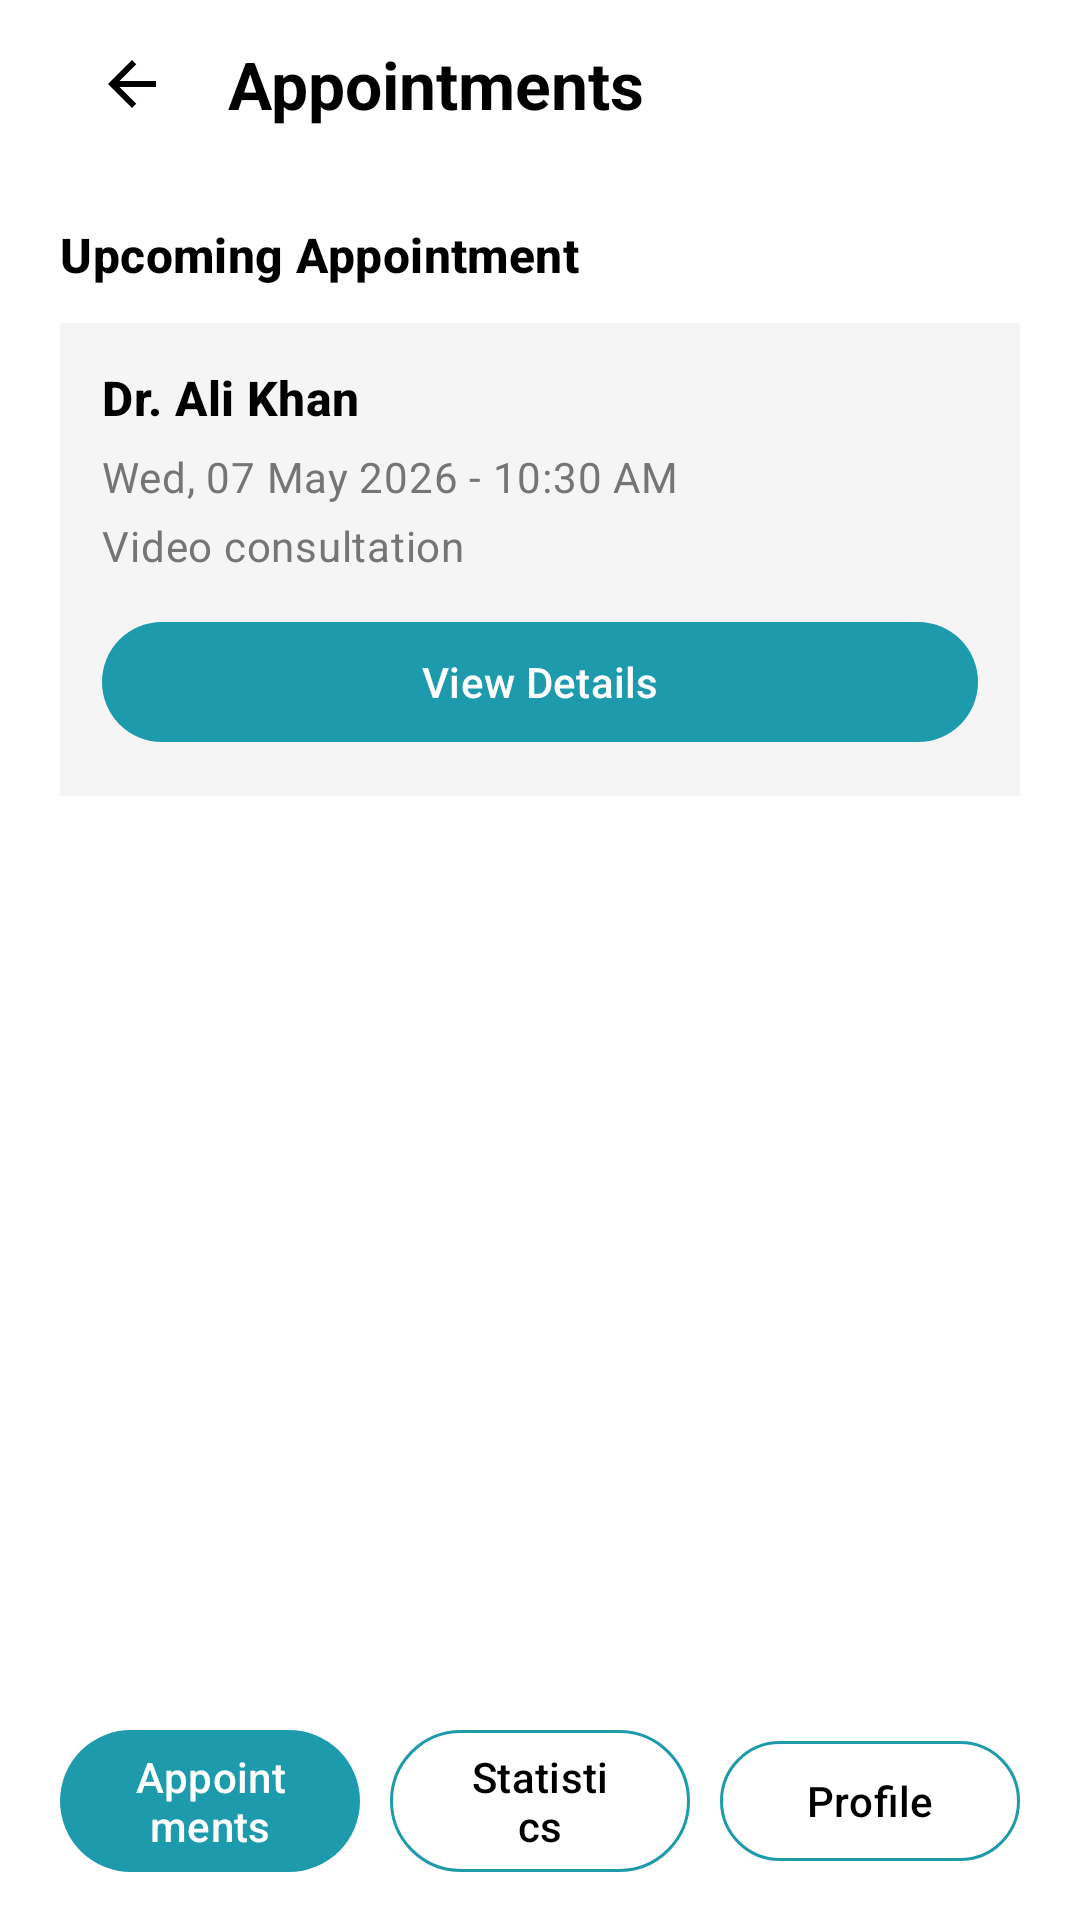

Locate icon controls on the screen. Image size 1080 x 1920, boxes as (x1, y1, x2, y2).
Back: (108, 60, 156, 108)
